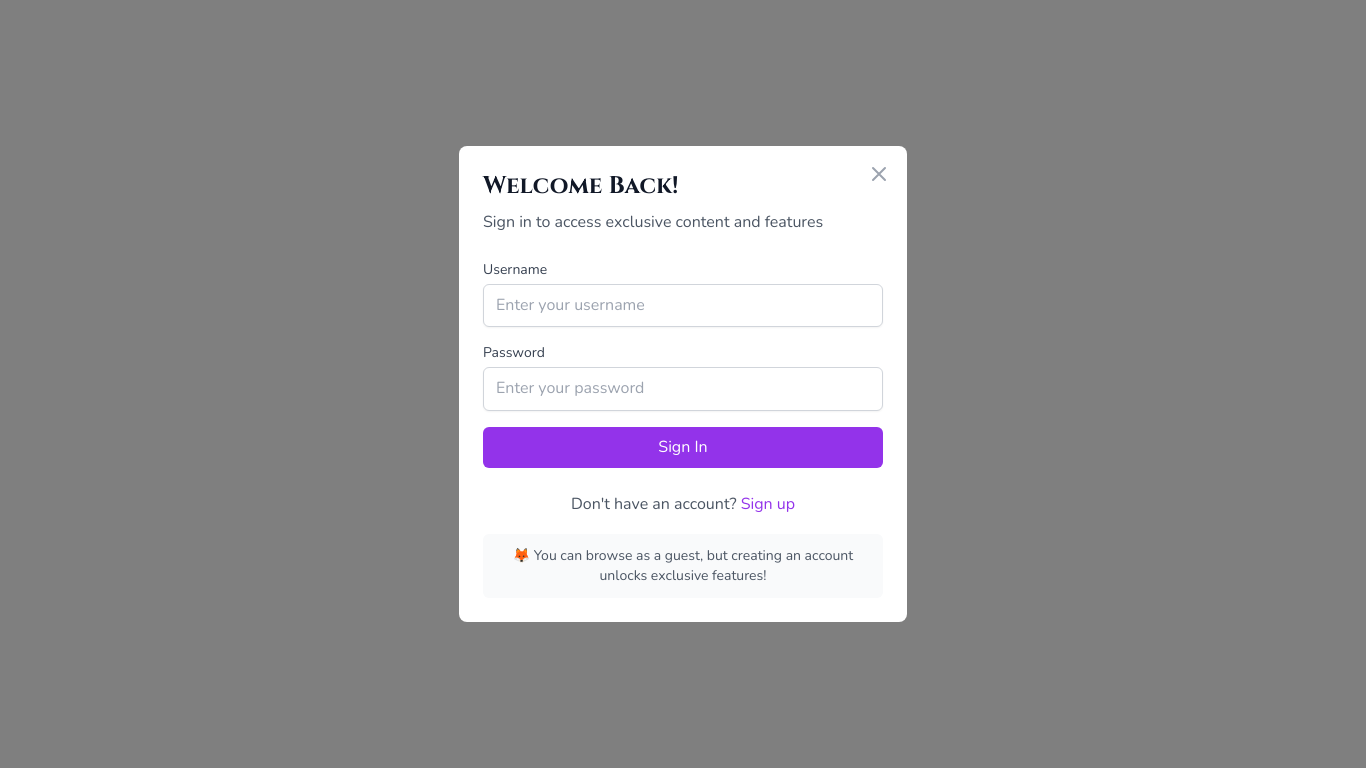
Scenario: AuthModal › switches to register form
Click the button "Sign up".
click(768, 505)  # box [741, 492, 795, 518]
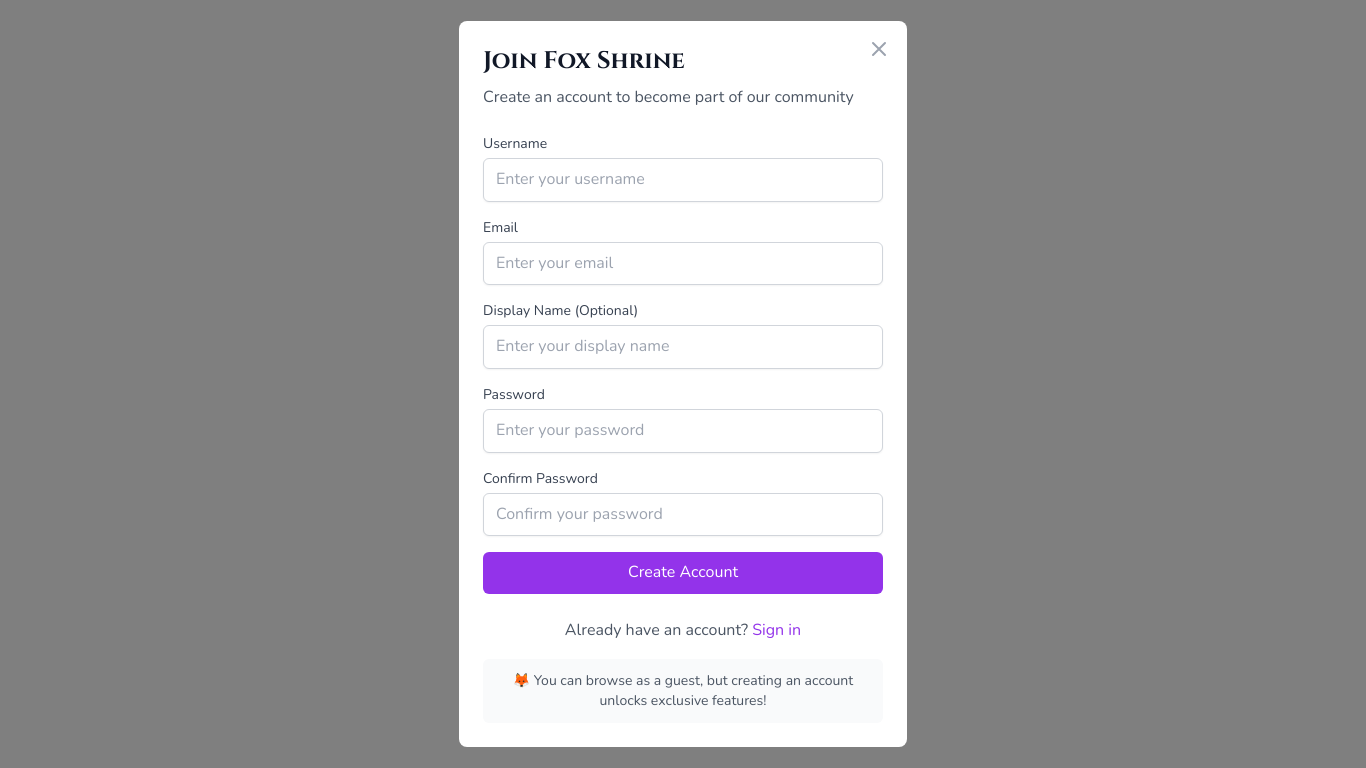
Expected: the field labelled "Email" is shown, [483, 242, 883, 285]
Expected: the button "Create Account" is shown, [483, 552, 883, 594]
